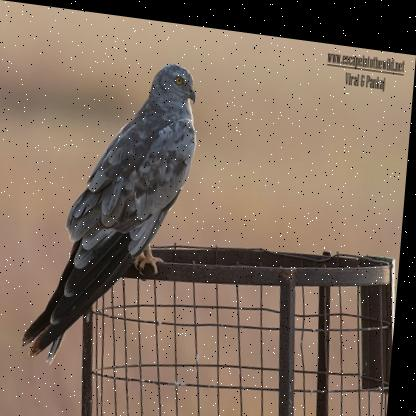Burung: (19, 45, 205, 379)
